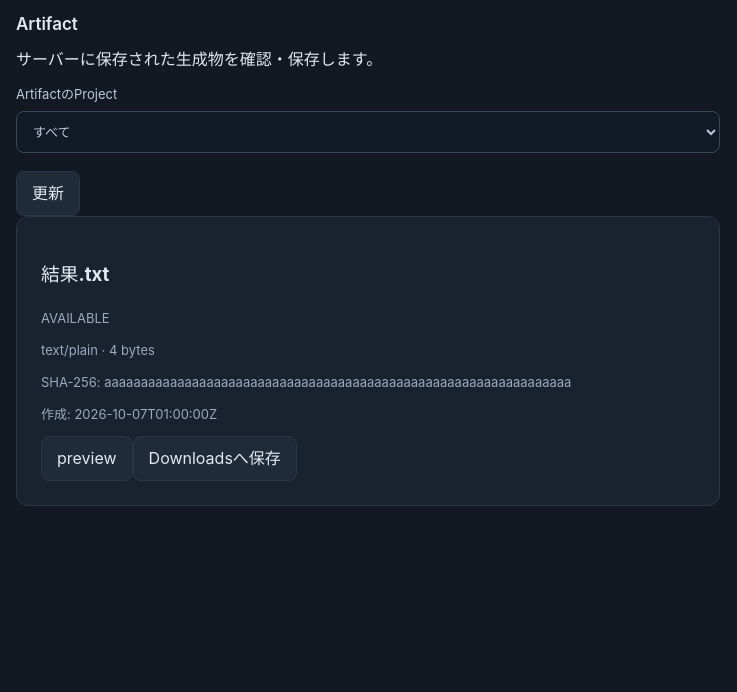
Test: clears previously previewed content when a subsequent read fails
Step 1. Click the button "preview" → (87, 458), box 41,436 -> 133,481
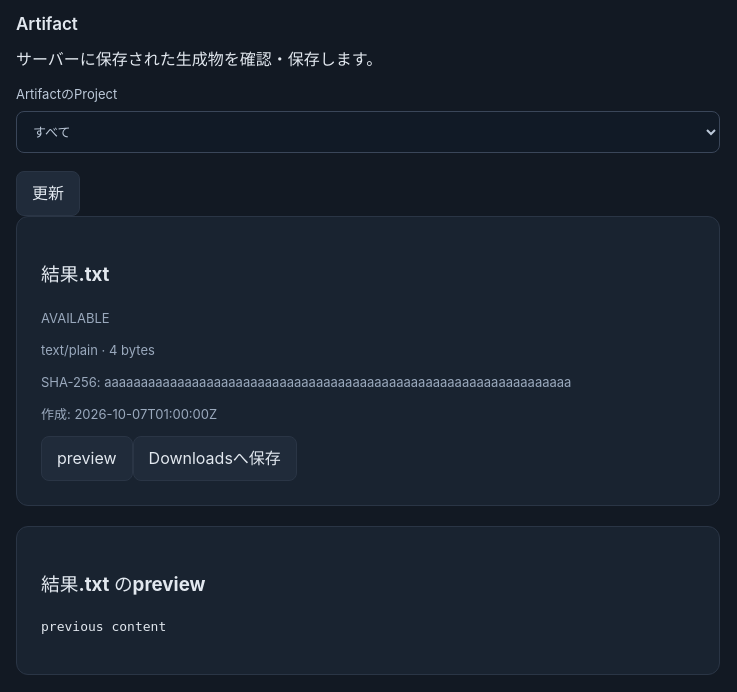
Result: the text "previous content" is shown at 41,619 -> 166,634
Step 2. Click the button "preview" → (87, 458), box 41,436 -> 133,481
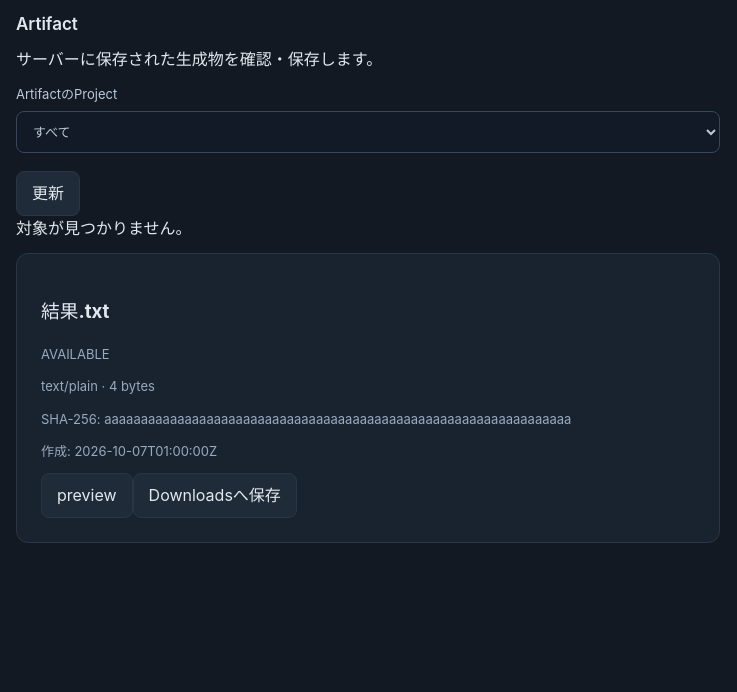
Result: the message "対象が見つかりません。" is shown at 16,218 -> 192,238
Result: the text "previous content" is gone
